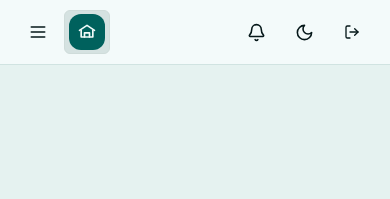
Test: AppHeader › exposes primary destinations through a mobile disclosure
This screenshot has width=390, height=199.
Step 1. Click the button named "Open navigation" → coordinates (38, 32), box 16,10 -> 60,54
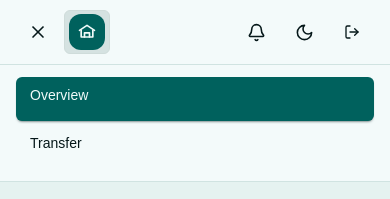
Check: the button named "Close navigation" is expanded, box 16,10 -> 60,54
Check: the number of links "Overview" is 2
Check: the number of links "Transfer" is 2
